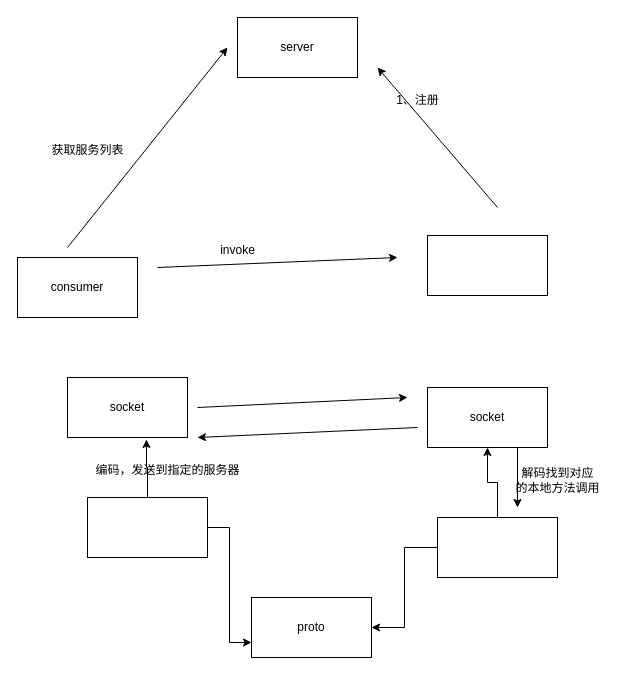
This 630x675 diagram has some shape labels left out. The centre of each missing label's shape, as x and y in pixels:
clientstub: [147,527]
provider: [487,265]
servicestub: [497,547]
